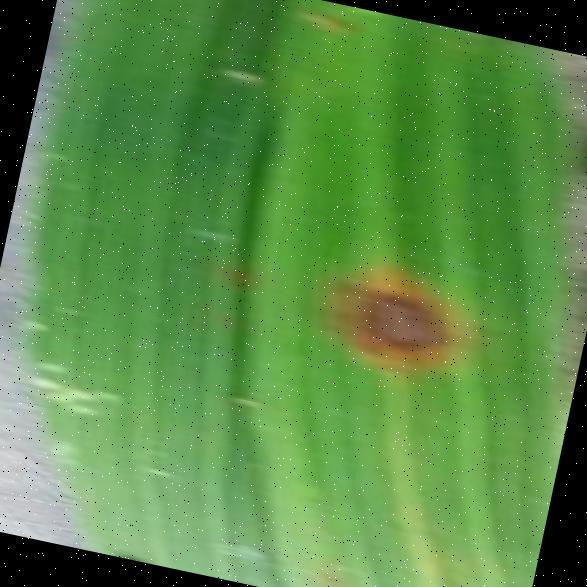Brown_Spot: (302, 250, 476, 392)
